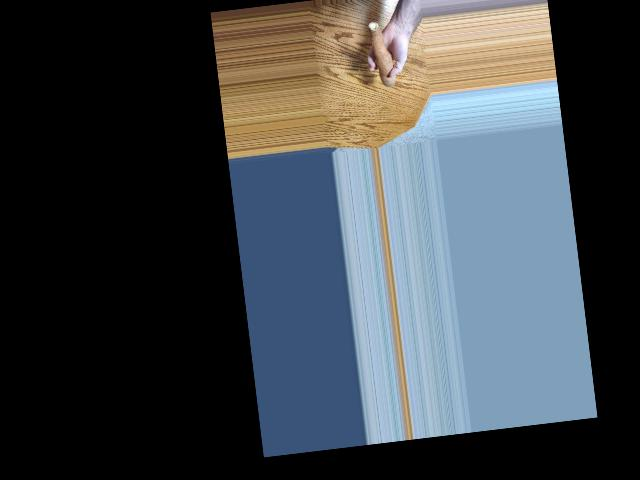sweet_potato: (370, 21, 396, 87)
